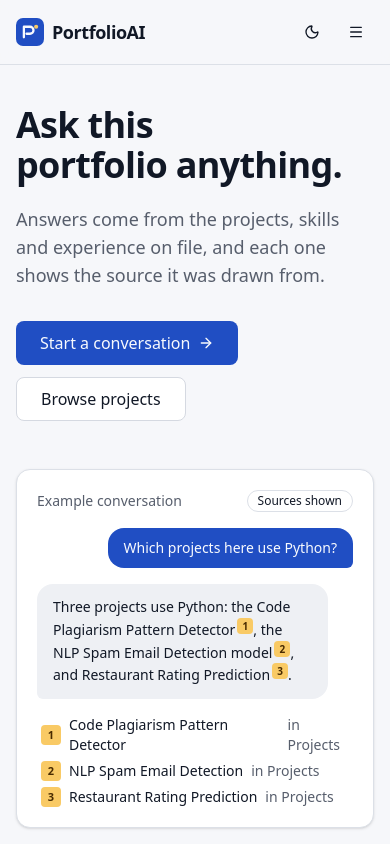
Test: public site › opens and closes the mobile menu
The image size is (390, 844).
Click the button named "Open menu" at (356, 32), box x1=338 y1=14 x2=374 y2=50
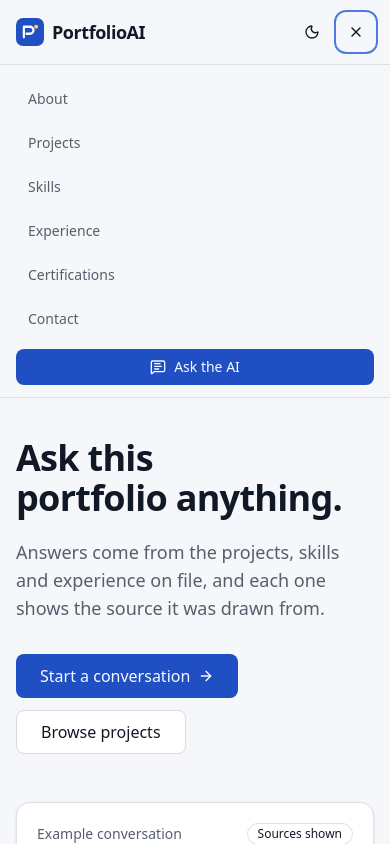
Now the navigation bar named "Mobile" is shown, box x1=0 y1=64 x2=389 y2=397
Click the button named "Close menu" at (356, 32), box x1=338 y1=14 x2=374 y2=50
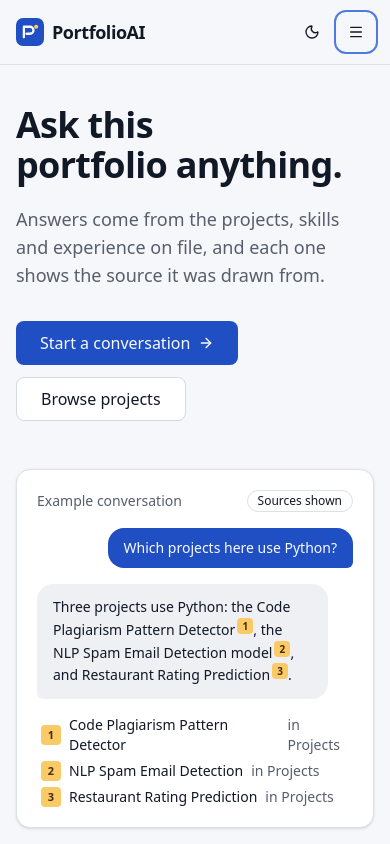
Now the navigation bar "Mobile" is gone
